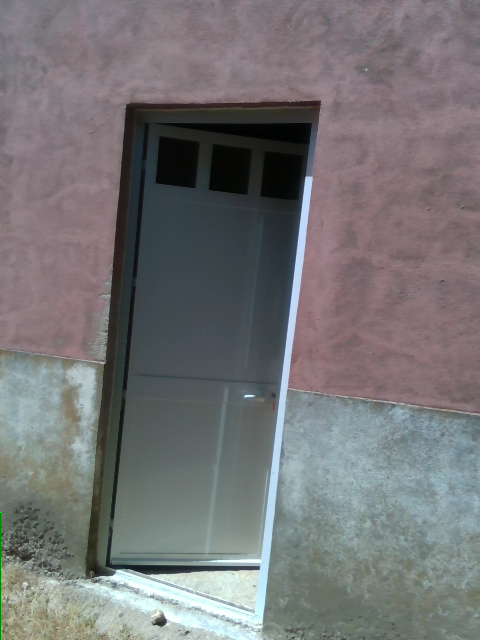semi: (91, 105, 325, 623)
